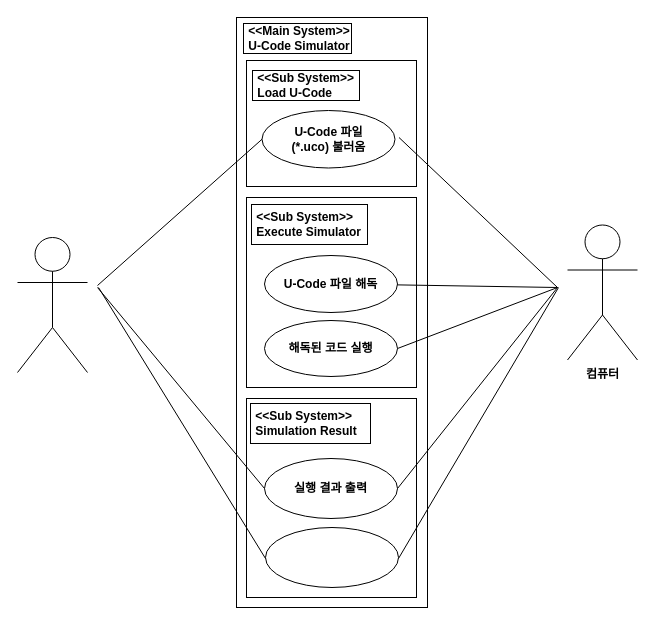
This 655x625 diagram has some shape labels left out. The shapes that lost their labels are listed below. From the top down, each one's box as (x1, y1, x2, y2) in pixels, then its label:
(16, 236, 88, 372): 사용자
(264, 526, 398, 588): 통계 파일 (*.lst) 생성
